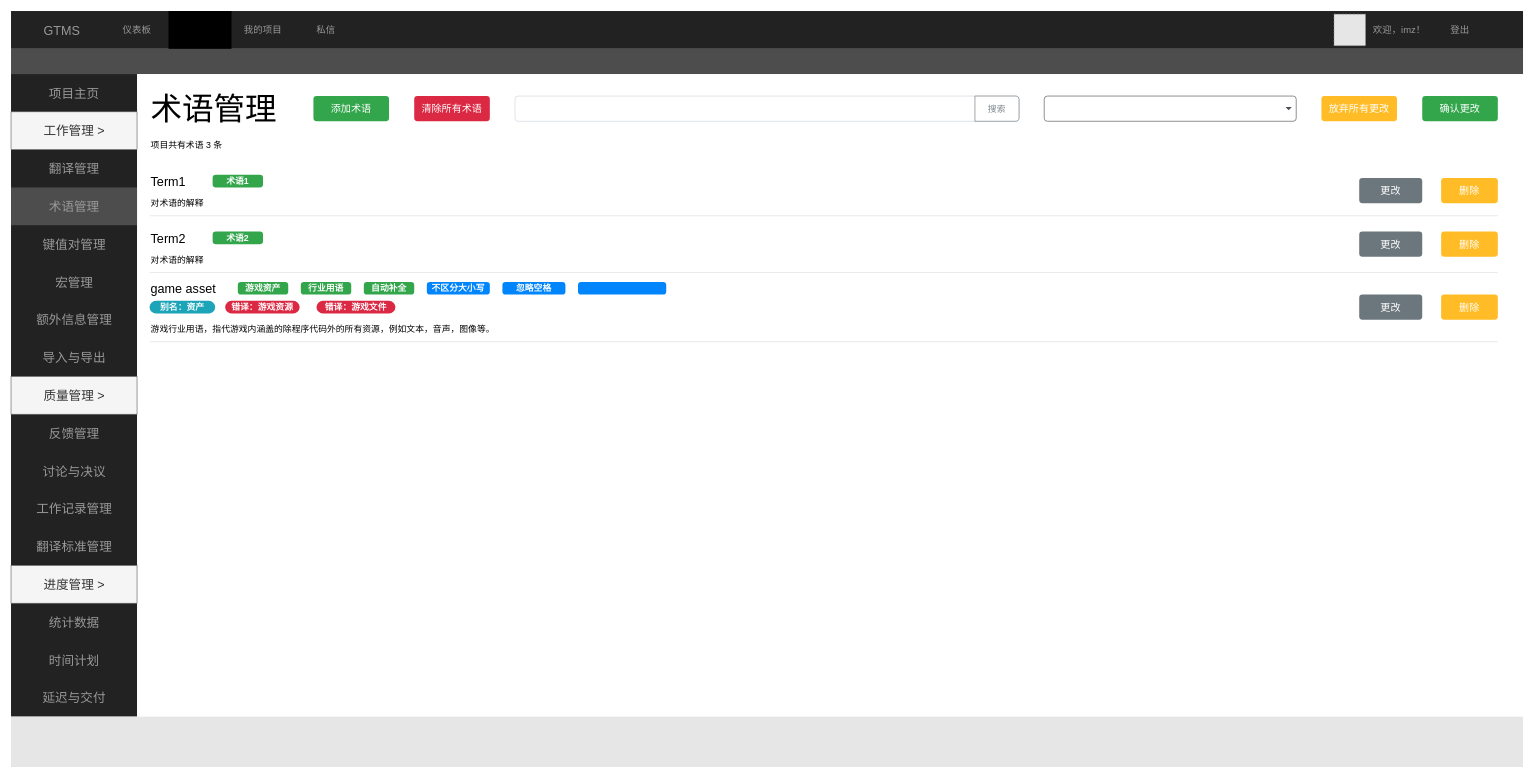
Some shapes in this 1534 by 777 pixel diagram are drawn without their labels. Grey dashed boxes stand in for pictures. The shapes that lost their labels are listed below. From the top down, each one's box as (x1, y1, x2, y2) in pixels, then its label:
(168, 11, 231, 49): 项目浏览
(11, 49, 1523, 74): 示例中文化项目01 / 术语管理
(514, 95, 1019, 121): 术语名称
(1044, 95, 1296, 121): 排序：默认排序
(578, 282, 666, 294): 复数：game assets
(11, 716, 1523, 767): Yifan Xu 毕业设计 @天津工业大学
